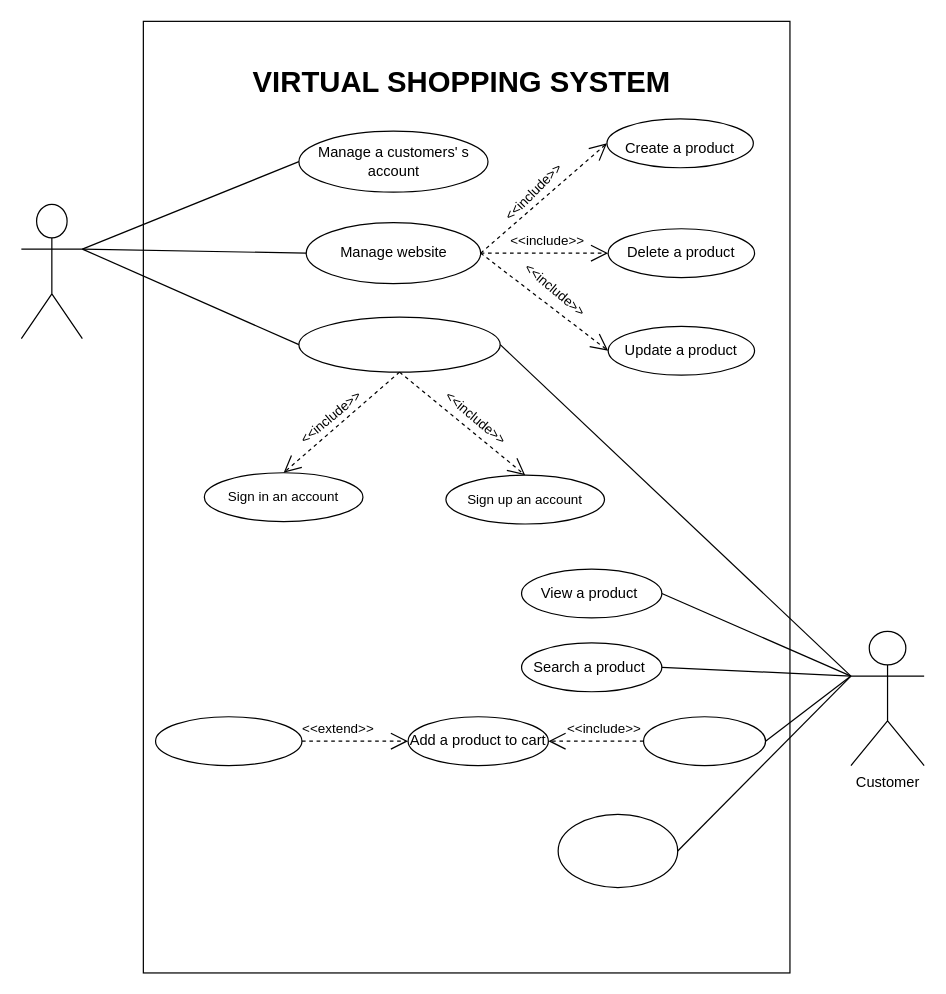
Some shapes in this 946 by 994 pixel diagram are drawn without their labels. The shapes that lost their labels are listed below. From the top down, each one's box as (x1, y1, x2, y2) in pixels, then its label:
(20, 203, 82, 339): Manager
(298, 316, 500, 372): Verify an account
(154, 716, 302, 766): Update a cart
(642, 716, 766, 766): Check out a cart
(557, 813, 678, 888): Update an account
